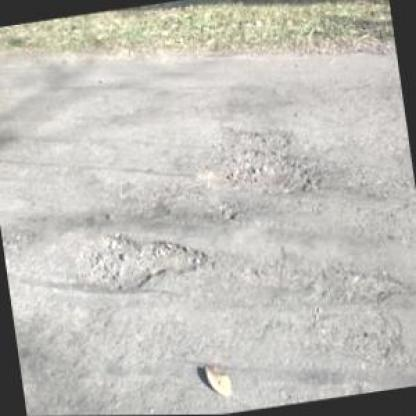pothole: (72, 218, 212, 296), (198, 138, 334, 206), (204, 114, 297, 158), (214, 198, 244, 226)
